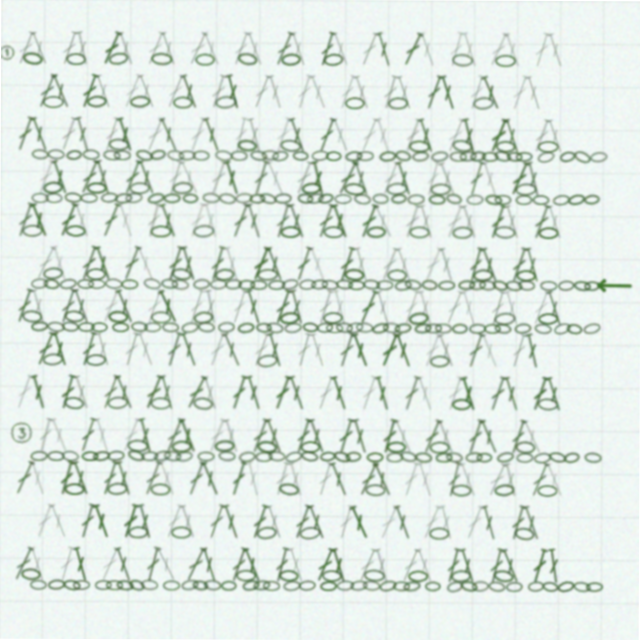chain: (21, 52, 42, 67), (107, 52, 128, 67), (236, 52, 257, 67), (451, 138, 472, 153), (279, 482, 300, 497), (494, 568, 515, 583), (279, 139, 301, 153), (343, 182, 365, 196), (494, 311, 516, 325), (300, 526, 322, 540), (572, 148, 591, 164), (236, 139, 257, 153), (171, 268, 192, 282), (214, 268, 235, 282), (193, 311, 214, 325), (279, 311, 300, 325), (408, 311, 429, 325), (257, 354, 278, 368), (64, 397, 85, 411), (193, 397, 214, 411), (257, 440, 278, 454), (257, 526, 278, 540), (515, 526, 536, 540), (214, 96, 236, 109), (553, 320, 572, 335), (127, 449, 146, 464), (150, 53, 171, 66), (322, 53, 343, 66), (451, 53, 472, 66), (472, 96, 493, 109), (42, 182, 63, 195), (386, 182, 407, 195), (515, 182, 536, 195), (193, 225, 214, 238), (494, 225, 515, 238), (64, 311, 85, 324), (128, 440, 149, 453), (365, 569, 386, 582), (134, 149, 153, 163), (536, 149, 555, 163), (146, 192, 165, 206), (258, 192, 277, 206), (371, 321, 390, 335), (285, 450, 304, 464), (333, 450, 352, 464), (280, 53, 300, 66), (86, 96, 106, 109), (129, 96, 149, 109), (108, 139, 128, 152), (172, 182, 192, 195), (301, 182, 321, 195), (43, 268, 63, 281), (344, 268, 364, 281), (473, 268, 493, 281), (22, 311, 42, 324), (108, 311, 128, 324), (43, 354, 63, 367), (108, 397, 128, 410), (538, 397, 558, 410), (215, 440, 235, 453), (516, 440, 536, 453), (108, 483, 128, 496), (495, 483, 515, 496), (22, 569, 42, 582), (452, 569, 472, 582), (494, 54, 515, 66), (42, 97, 63, 109), (408, 140, 429, 152), (537, 140, 558, 152), (150, 226, 171, 238), (257, 269, 278, 281), (491, 278, 509, 292), (129, 579, 147, 593), (447, 579, 465, 593), (65, 54, 85, 66), (194, 54, 214, 66), (172, 97, 192, 109), (344, 97, 364, 109), (387, 97, 407, 109), (495, 140, 515, 152), (86, 183, 106, 195), (129, 183, 149, 195), (430, 183, 450, 195), (22, 226, 42, 238), (65, 226, 85, 238), (280, 226, 300, 238), (323, 226, 343, 238), (366, 226, 386, 238), (409, 226, 429, 238), (452, 226, 472, 238), (538, 226, 558, 238), (86, 269, 106, 281), (387, 269, 407, 281), (516, 269, 536, 281), (151, 312, 171, 324), (323, 312, 343, 324), (538, 312, 558, 324), (86, 355, 106, 367), (430, 355, 450, 367), (151, 398, 171, 410), (452, 398, 472, 410), (172, 441, 192, 453), (301, 441, 321, 453), (387, 441, 407, 453), (430, 441, 450, 453), (65, 484, 85, 496), (151, 484, 171, 496), (366, 484, 386, 496), (452, 484, 472, 496), (538, 484, 558, 496), (129, 527, 149, 539), (172, 527, 192, 539), (430, 527, 450, 539), (237, 570, 257, 582), (280, 570, 300, 582), (323, 570, 343, 582), (409, 570, 429, 582), (493, 149, 511, 162), (558, 149, 576, 162), (306, 192, 324, 205), (567, 192, 585, 205), (143, 278, 161, 291), (281, 278, 299, 291), (404, 278, 422, 291), (346, 321, 364, 334), (583, 321, 601, 334), (154, 450, 172, 463), (301, 450, 319, 463), (400, 450, 418, 463), (497, 450, 515, 463), (549, 450, 567, 463), (182, 579, 200, 592), (243, 579, 261, 592), (380, 579, 398, 592), (461, 579, 479, 592), (558, 579, 576, 592), (149, 149, 166, 162), (394, 149, 411, 162), (317, 192, 334, 205), (445, 192, 462, 205), (564, 450, 581, 463), (102, 150, 120, 162), (166, 150, 184, 162), (214, 150, 232, 162), (249, 150, 267, 162), (344, 150, 362, 162), (378, 150, 396, 162), (411, 150, 429, 162), (430, 150, 448, 162), (589, 150, 607, 162), (114, 193, 132, 205), (218, 193, 236, 205), (353, 193, 371, 205), (484, 193, 502, 205), (552, 193, 570, 205), (59, 279, 77, 291), (171, 279, 189, 291), (321, 279, 339, 291), (394, 279, 412, 291), (505, 279, 523, 291), (573, 279, 591, 291), (47, 322, 65, 334), (181, 322, 199, 334), (237, 322, 255, 334), (266, 322, 284, 334), (284, 322, 302, 334), (394, 322, 412, 334), (414, 322, 432, 334), (494, 322, 512, 334), (534, 322, 552, 334), (62, 451, 80, 463), (93, 451, 111, 463), (176, 451, 194, 463), (239, 451, 257, 463), (415, 451, 433, 463), (446, 451, 464, 463), (534, 451, 552, 463), (64, 580, 82, 592), (117, 580, 135, 592), (284, 580, 302, 592), (404, 580, 422, 592), (489, 580, 507, 592), (574, 580, 592, 592), (65, 150, 82, 162), (271, 150, 288, 162), (43, 279, 60, 291), (566, 322, 583, 334), (193, 580, 210, 592), (543, 580, 560, 592), (100, 193, 118, 204), (514, 322, 532, 333), (164, 451, 182, 462), (254, 580, 272, 591), (351, 580, 369, 591), (31, 150, 48, 161), (47, 150, 64, 161), (82, 150, 99, 161), (261, 150, 278, 161), (311, 150, 328, 161), (459, 150, 476, 161), (469, 150, 486, 161), (64, 193, 81, 204), (125, 193, 142, 204), (202, 193, 219, 204), (235, 193, 252, 204), (274, 193, 291, 204), (390, 193, 407, 204), (583, 193, 600, 204), (31, 279, 48, 290), (105, 279, 122, 290), (161, 279, 178, 290), (193, 279, 210, 290), (210, 279, 227, 290), (225, 279, 242, 290), (299, 279, 316, 290), (311, 279, 328, 290), (336, 279, 353, 290), (363, 279, 380, 290), (421, 279, 438, 290), (458, 279, 475, 290), (469, 279, 486, 290), (479, 279, 496, 290), (518, 279, 535, 290), (31, 322, 48, 333), (62, 322, 79, 333), (131, 322, 148, 333), (198, 322, 215, 333), (218, 322, 235, 333), (302, 322, 319, 333), (336, 322, 353, 333), (356, 322, 373, 333), (383, 322, 400, 333), (108, 451, 125, 462), (219, 451, 236, 462), (269, 451, 286, 462), (320, 451, 337, 462), (466, 451, 483, 462), (585, 451, 602, 462), (49, 580, 66, 591), (142, 580, 159, 591), (205, 580, 222, 591), (300, 580, 317, 591), (338, 580, 355, 591), (364, 580, 381, 591), (473, 580, 490, 591), (297, 193, 313, 204), (372, 193, 388, 204), (558, 279, 574, 290), (317, 322, 333, 333), (346, 451, 362, 462), (529, 580, 545, 591), (113, 151, 130, 161), (178, 151, 195, 161), (192, 151, 209, 161), (230, 151, 247, 161), (356, 151, 373, 161), (449, 151, 466, 161), (481, 151, 498, 161), (515, 151, 532, 161), (31, 194, 48, 204), (45, 194, 62, 204), (80, 194, 97, 204), (163, 194, 180, 204), (334, 194, 351, 204), (407, 194, 424, 204), (428, 194, 445, 204), (466, 194, 483, 204), (494, 194, 511, 204), (515, 194, 532, 204), (532, 194, 549, 204), (77, 280, 94, 290), (88, 280, 105, 290), (121, 280, 138, 290), (238, 280, 255, 290), (250, 280, 267, 290), (268, 280, 285, 290), (348, 280, 365, 290), (376, 280, 393, 290), (438, 280, 455, 290), (540, 280, 557, 290), (78, 323, 95, 333), (91, 323, 108, 333), (112, 323, 129, 333), (144, 323, 161, 333), (162, 323, 179, 333), (326, 323, 343, 333), (425, 323, 442, 333), (435, 323, 452, 333), (469, 323, 486, 333), (484, 323, 501, 333), (31, 452, 48, 462), (48, 452, 65, 462), (82, 452, 99, 462), (142, 452, 159, 462), (198, 452, 215, 462), (256, 452, 273, 462), (367, 452, 384, 462), (387, 452, 404, 462), (436, 452, 453, 462), (517, 452, 534, 462), (31, 581, 48, 591), (74, 581, 91, 591), (96, 581, 113, 591), (107, 581, 124, 591), (164, 581, 181, 591), (264, 581, 281, 591), (321, 581, 338, 591), (394, 581, 411, 591), (507, 581, 524, 591), (587, 581, 604, 591), (292, 151, 308, 161), (325, 151, 341, 161), (506, 151, 522, 161), (182, 194, 198, 204), (249, 194, 265, 204), (584, 280, 600, 290), (256, 323, 272, 333), (452, 323, 468, 333), (477, 452, 493, 462), (222, 581, 238, 591), (426, 581, 442, 591)
double: (334, 160, 360, 196), (155, 289, 181, 325), (98, 31, 123, 67), (184, 31, 209, 67), (399, 31, 424, 67), (485, 31, 510, 67), (370, 203, 395, 239), (33, 246, 58, 282), (184, 375, 209, 411), (520, 418, 545, 454), (485, 461, 510, 497), (348, 504, 373, 540), (377, 504, 402, 540), (12, 547, 37, 583), (98, 547, 123, 583), (155, 547, 180, 583), (184, 547, 209, 583), (142, 31, 166, 67), (271, 31, 295, 67), (34, 74, 58, 110), (48, 74, 72, 110), (478, 74, 502, 110), (142, 117, 166, 153), (156, 117, 180, 153), (486, 117, 510, 153), (77, 160, 101, 196), (177, 160, 201, 196), (263, 160, 287, 196), (435, 160, 459, 196), (507, 160, 531, 196), (27, 203, 51, 239), (56, 203, 80, 239), (249, 246, 273, 282), (421, 246, 445, 282), (99, 289, 123, 325), (113, 289, 137, 325), (220, 332, 244, 368), (378, 332, 402, 368), (478, 332, 502, 368), (142, 375, 166, 411), (48, 418, 72, 454), (163, 418, 187, 454), (392, 418, 416, 454), (13, 461, 37, 497), (199, 461, 223, 497), (357, 461, 381, 497), (371, 461, 395, 497), (543, 461, 567, 497), (314, 547, 338, 583), (286, 30, 308, 68), (415, 30, 437, 68), (57, 116, 79, 154), (186, 116, 208, 154), (272, 288, 294, 326), (13, 31, 36, 67), (27, 31, 50, 67), (199, 31, 222, 67), (328, 31, 351, 67), (357, 31, 380, 67), (500, 31, 523, 67), (77, 74, 100, 110), (120, 74, 143, 110), (134, 74, 157, 110), (163, 74, 186, 110), (177, 74, 200, 110), (306, 74, 329, 110), (507, 74, 530, 110), (13, 117, 36, 153), (285, 117, 308, 153), (328, 117, 351, 153), (357, 117, 380, 153), (443, 117, 466, 153), (34, 160, 57, 196), (292, 160, 315, 196), (99, 203, 122, 239), (285, 203, 308, 239), (314, 203, 337, 239), (328, 203, 351, 239), (357, 203, 380, 239), (443, 203, 466, 239), (120, 246, 143, 282), (134, 246, 157, 282), (263, 246, 286, 282), (306, 246, 329, 282), (378, 246, 401, 282), (478, 246, 501, 282), (70, 289, 93, 325), (357, 289, 380, 325), (443, 289, 466, 325), (34, 332, 57, 368), (134, 332, 157, 368), (206, 332, 229, 368), (349, 332, 372, 368), (392, 332, 415, 368), (421, 332, 444, 368), (435, 332, 458, 368), (113, 375, 136, 411), (120, 418, 143, 454), (177, 418, 200, 454), (206, 418, 229, 454), (249, 418, 272, 454), (263, 418, 286, 454), (306, 418, 329, 454), (421, 418, 444, 454), (435, 418, 458, 454), (478, 418, 501, 454), (70, 461, 93, 497), (142, 461, 165, 497), (156, 461, 179, 497), (328, 461, 351, 497), (529, 461, 552, 497), (34, 504, 57, 540), (48, 504, 71, 540), (91, 504, 114, 540), (292, 504, 315, 540), (306, 504, 329, 540), (392, 504, 415, 540), (421, 504, 444, 540), (464, 504, 487, 540), (521, 504, 544, 540), (113, 547, 136, 583), (242, 547, 265, 583), (357, 547, 380, 583), (400, 547, 423, 583), (414, 547, 437, 583), (500, 547, 523, 583), (57, 31, 79, 67), (114, 31, 136, 67), (229, 31, 251, 67), (243, 31, 265, 67), (250, 74, 272, 110), (350, 74, 372, 110), (422, 74, 444, 110), (436, 74, 458, 110), (28, 117, 50, 153), (200, 117, 222, 153), (272, 117, 294, 153), (315, 117, 337, 153), (401, 117, 423, 153), (530, 117, 552, 153), (121, 160, 143, 196), (135, 160, 157, 196), (207, 160, 229, 196), (379, 160, 401, 196), (14, 203, 36, 239), (114, 203, 136, 239), (157, 203, 179, 239), (186, 203, 208, 239), (229, 203, 251, 239), (401, 203, 423, 239), (458, 203, 480, 239), (530, 203, 552, 239), (78, 246, 100, 282), (92, 246, 114, 282), (164, 246, 186, 282), (393, 246, 415, 282), (508, 246, 530, 282), (57, 289, 79, 325), (143, 289, 165, 325), (530, 289, 552, 325), (178, 332, 200, 368), (250, 332, 272, 368), (336, 332, 358, 368), (465, 332, 487, 368), (71, 375, 93, 411), (100, 375, 122, 411), (272, 375, 294, 411), (286, 375, 308, 411), (315, 375, 337, 411), (358, 375, 380, 411), (401, 375, 423, 411), (444, 375, 466, 411), (458, 375, 480, 411), (487, 375, 509, 411), (221, 418, 243, 454), (465, 418, 487, 454), (186, 461, 208, 497), (458, 461, 480, 497), (164, 504, 186, 540), (178, 504, 200, 540), (221, 504, 243, 540), (264, 504, 286, 540), (229, 547, 251, 583), (286, 547, 308, 583), (157, 31, 178, 67), (458, 31, 479, 67), (530, 31, 551, 67), (544, 31, 565, 67), (92, 74, 113, 110), (207, 74, 228, 110), (264, 74, 285, 110), (293, 74, 314, 110), (336, 74, 357, 110), (379, 74, 400, 110), (393, 74, 414, 110), (465, 74, 486, 110), (522, 74, 543, 110), (114, 117, 135, 153), (372, 117, 393, 153), (415, 117, 436, 153), (501, 117, 522, 153), (544, 117, 565, 153), (49, 160, 70, 196), (92, 160, 113, 196), (164, 160, 185, 196), (221, 160, 242, 196), (250, 160, 271, 196), (350, 160, 371, 196), (393, 160, 414, 196), (479, 160, 500, 196), (71, 203, 92, 239), (200, 203, 221, 239), (243, 203, 264, 239), (272, 203, 293, 239), (415, 203, 436, 239), (487, 203, 508, 239), (501, 203, 522, 239), (544, 203, 565, 239), (49, 246, 70, 282), (178, 246, 199, 282), (207, 246, 228, 282), (293, 246, 314, 282), (336, 246, 357, 282), (436, 246, 457, 282), (14, 289, 35, 325), (28, 289, 49, 325), (186, 289, 207, 325), (229, 289, 250, 325), (243, 289, 264, 325), (315, 289, 336, 325), (401, 289, 422, 325), (415, 289, 436, 325), (487, 289, 508, 325), (544, 289, 565, 325), (121, 332, 142, 368), (164, 332, 185, 368), (14, 375, 35, 411), (200, 375, 221, 411), (229, 375, 250, 411), (329, 375, 350, 411), (415, 375, 436, 411), (530, 375, 551, 411), (544, 375, 565, 411), (78, 418, 99, 454), (336, 418, 357, 454), (350, 418, 371, 454), (508, 418, 529, 454), (28, 461, 49, 497), (100, 461, 121, 497), (114, 461, 135, 497), (229, 461, 250, 497), (286, 461, 307, 497), (78, 504, 99, 540), (121, 504, 142, 540), (207, 504, 228, 540), (250, 504, 271, 540), (28, 547, 49, 583), (57, 547, 78, 583), (200, 547, 221, 583), (458, 547, 479, 583), (530, 547, 551, 583), (316, 31, 336, 67), (373, 31, 393, 67), (445, 31, 465, 67), (222, 74, 242, 110), (72, 117, 92, 153), (101, 117, 121, 153), (244, 117, 264, 153), (466, 160, 486, 196), (523, 160, 543, 196), (222, 246, 242, 282), (351, 246, 371, 282), (287, 289, 307, 325), (330, 289, 350, 325), (373, 289, 393, 325), (459, 289, 479, 325), (502, 289, 522, 325), (50, 332, 70, 368), (79, 332, 99, 368), (93, 332, 113, 368), (265, 332, 285, 368), (294, 332, 314, 368), (308, 332, 328, 368), (509, 332, 529, 368), (29, 375, 49, 411), (58, 375, 78, 411), (244, 375, 264, 411), (373, 375, 393, 411), (502, 375, 522, 411), (36, 418, 56, 454), (93, 418, 113, 454), (136, 418, 156, 454), (294, 418, 314, 454), (380, 418, 400, 454), (273, 461, 293, 497), (316, 461, 336, 497), (402, 461, 422, 497), (416, 461, 436, 497), (136, 504, 156, 540), (337, 504, 357, 540), (437, 504, 457, 540), (480, 504, 500, 540), (509, 504, 529, 540), (72, 547, 92, 583), (144, 547, 164, 583), (273, 547, 293, 583), (330, 547, 350, 583), (373, 547, 393, 583), (72, 31, 91, 67), (459, 117, 478, 153), (308, 160, 327, 196), (423, 160, 442, 196), (144, 203, 163, 239), (466, 246, 485, 282), (523, 246, 542, 282), (523, 332, 542, 368), (158, 375, 177, 411), (58, 461, 77, 497), (502, 461, 521, 497), (445, 547, 464, 583), (488, 547, 507, 583), (231, 117, 249, 153), (202, 289, 220, 325), (245, 461, 263, 497), (446, 461, 464, 497), (547, 547, 563, 583)
noise: (9, 421, 35, 447), (594, 277, 632, 292), (0, 44, 15, 63)
